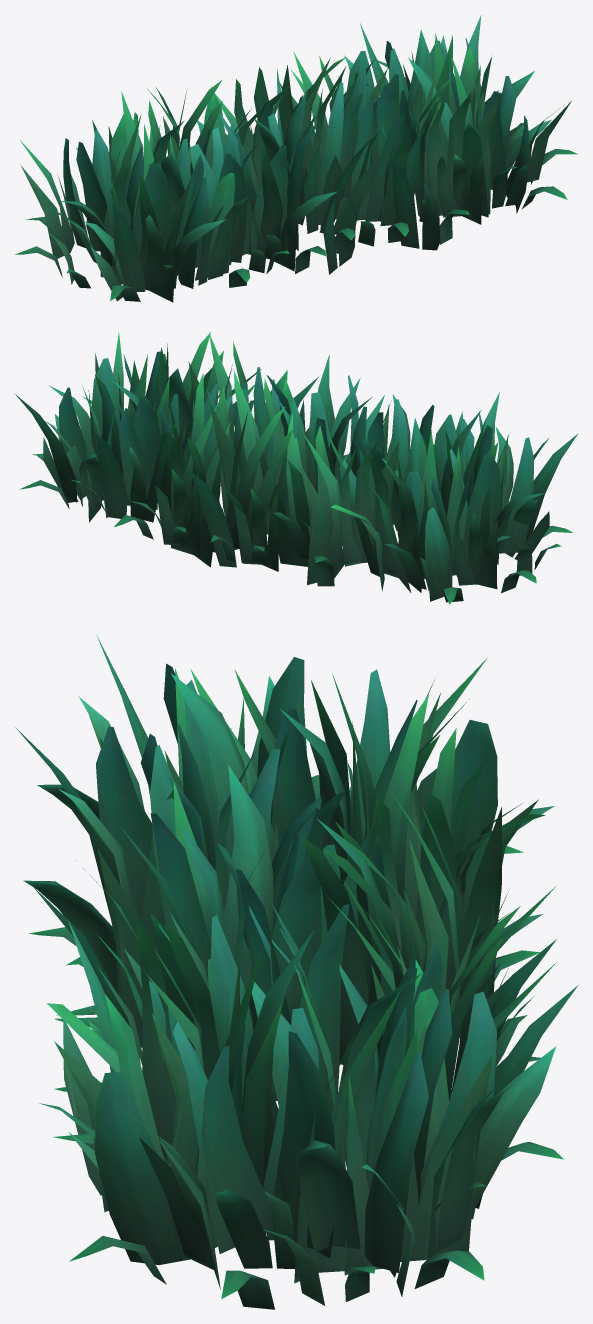
Rendered from pref_sm_beach_techgrass_alpha_03_lv2.fbx.
3 views of the same model, one above another, from view 1: azimuth 30°, elevation 25°; view 2: azimuth 150°, elevation 25°; view 3: azimuth 270°, elevation 25° (orthographic). The views are drawn at different scales.
Visible parts, largest first — view 1: pref_sm_beach_techgrass_alpha_03_lv2; view 2: pref_sm_beach_techgrass_alpha_03_lv2; view 3: pref_sm_beach_techgrass_alpha_03_lv2.
Boxes of the visible parts, x1,y1,x2,y2 form: pref_sm_beach_techgrass_alpha_03_lv2: [14, 15, 577, 302]; pref_sm_beach_techgrass_alpha_03_lv2: [14, 332, 578, 604]; pref_sm_beach_techgrass_alpha_03_lv2: [14, 634, 578, 1309].
Size of the model in its own units: 6.12 by 1.99 by 2.89.
1 material, 1 textured.
